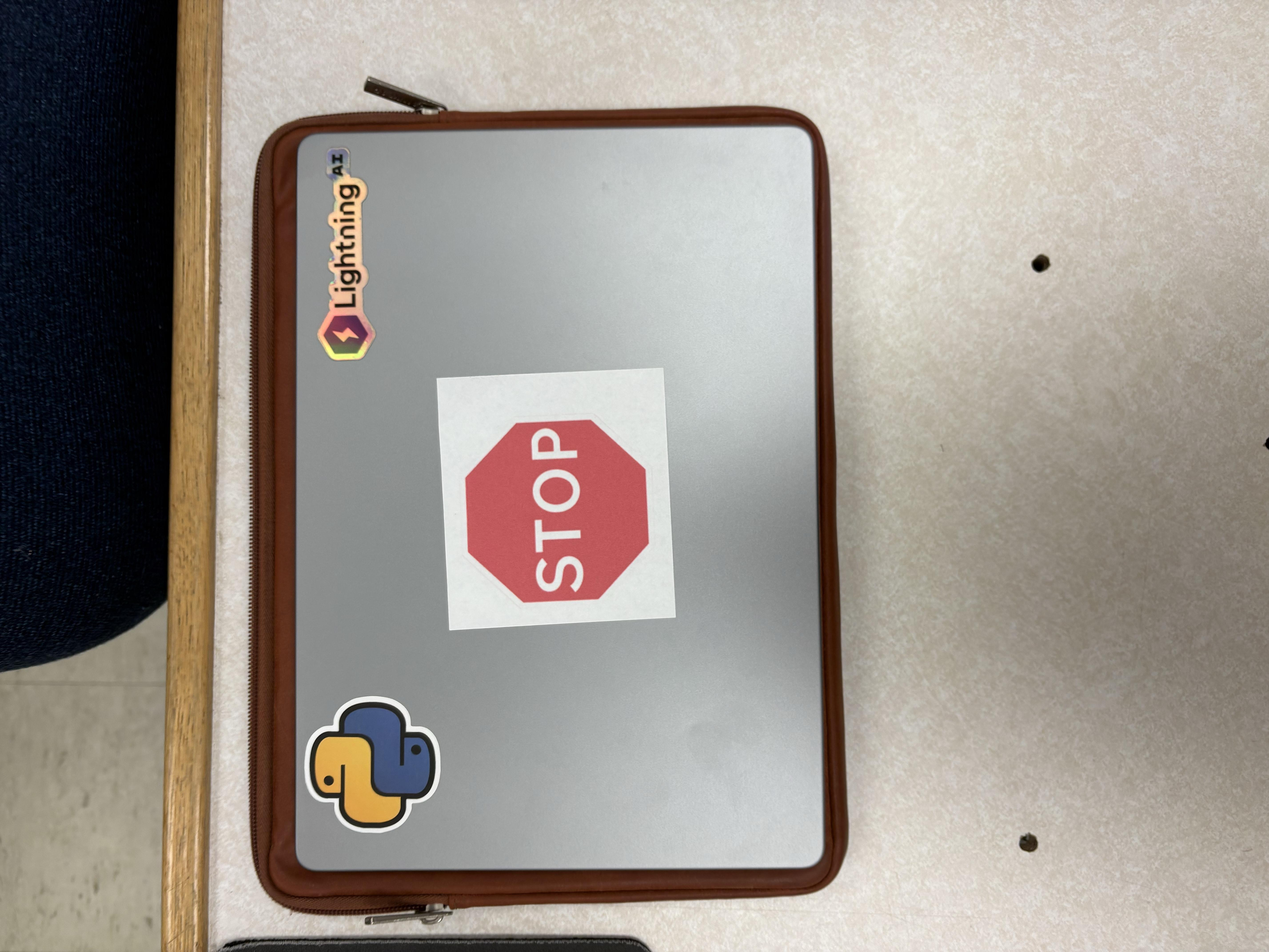Stop: (435, 382, 676, 623)
